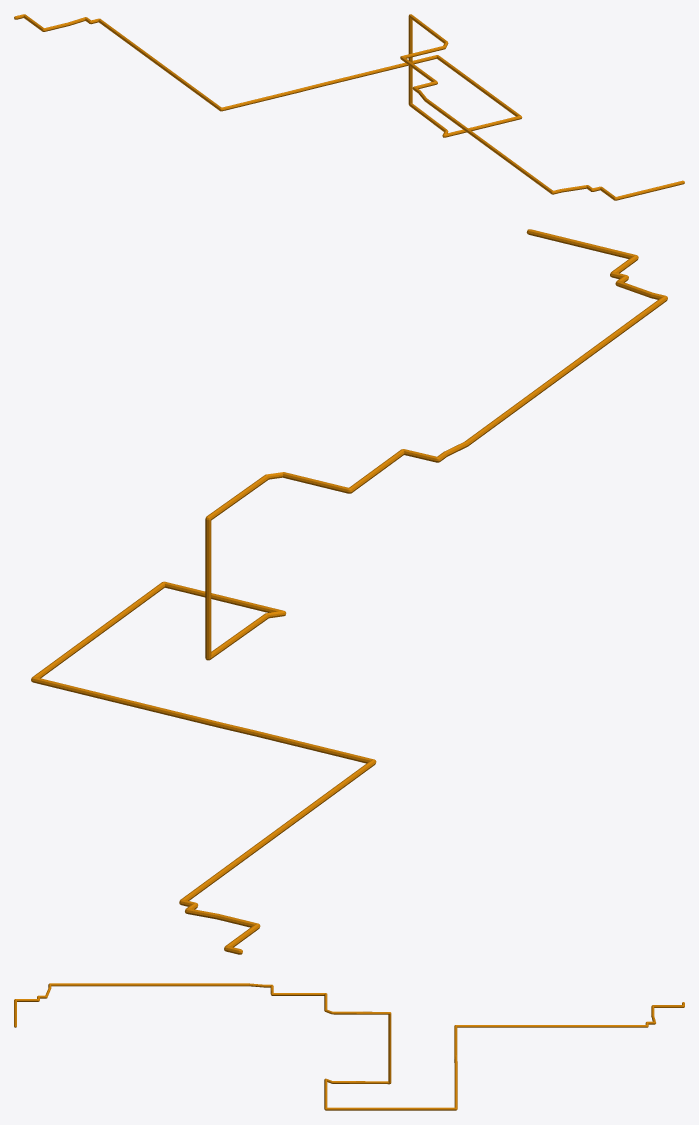
3 views of the same model, one above another, from view 1: azimuth 30°, elevation 25°; view 2: azimuth 150°, elevation 25°; view 3: azimuth 270°, elevation 25° (orthographic). The views are drawn at different scales.
Size of the model in its own units: 1655 by 520 by 4383.
